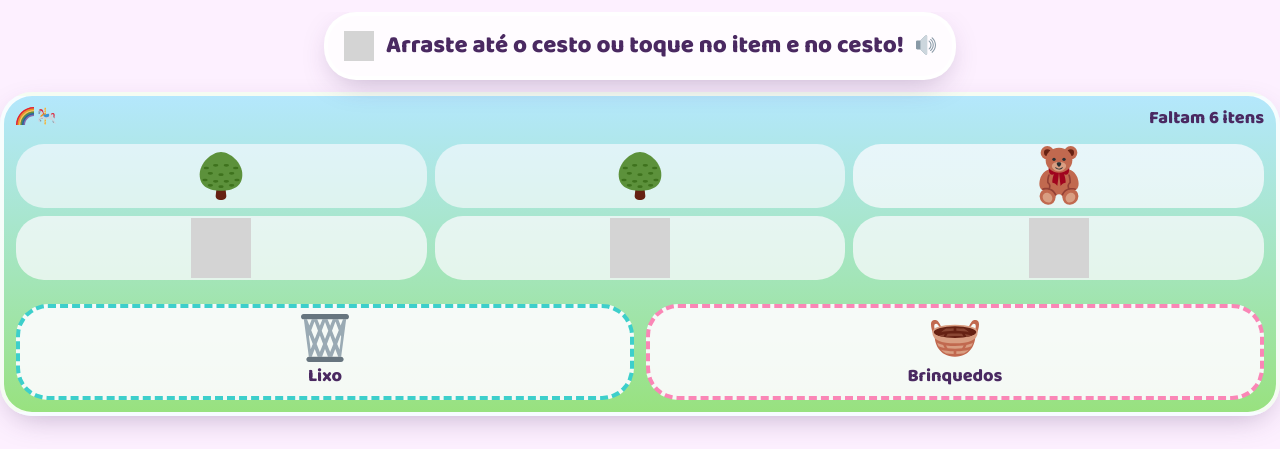
Test: parque acessível › mantém um item disponível quando o cesto escolhido está errado
Click the button named "Revelar item" at (221, 176), box [16,144,427,208]
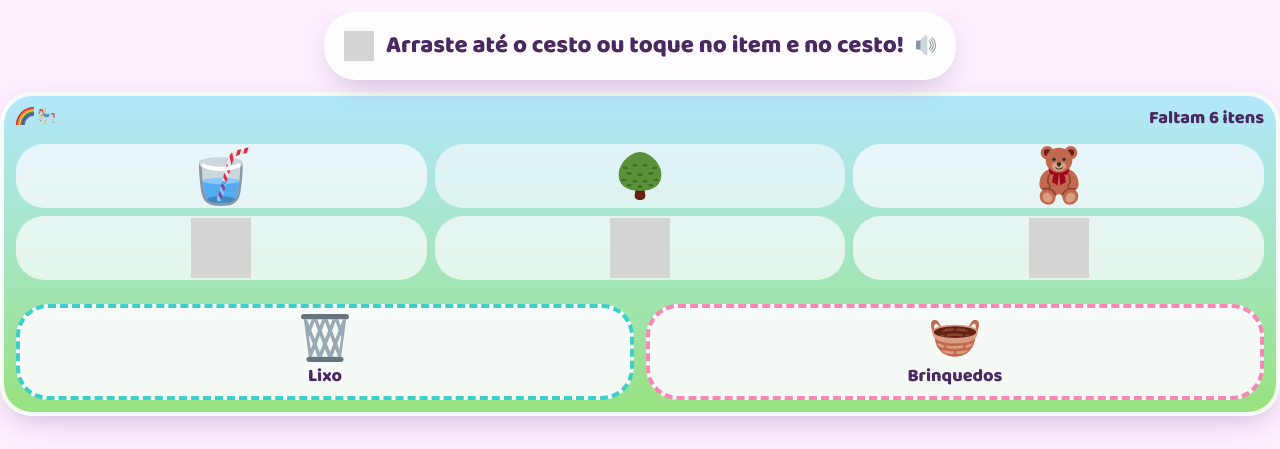
Click the button named "Revelar item" at (640, 176), box [435,144,845,208]
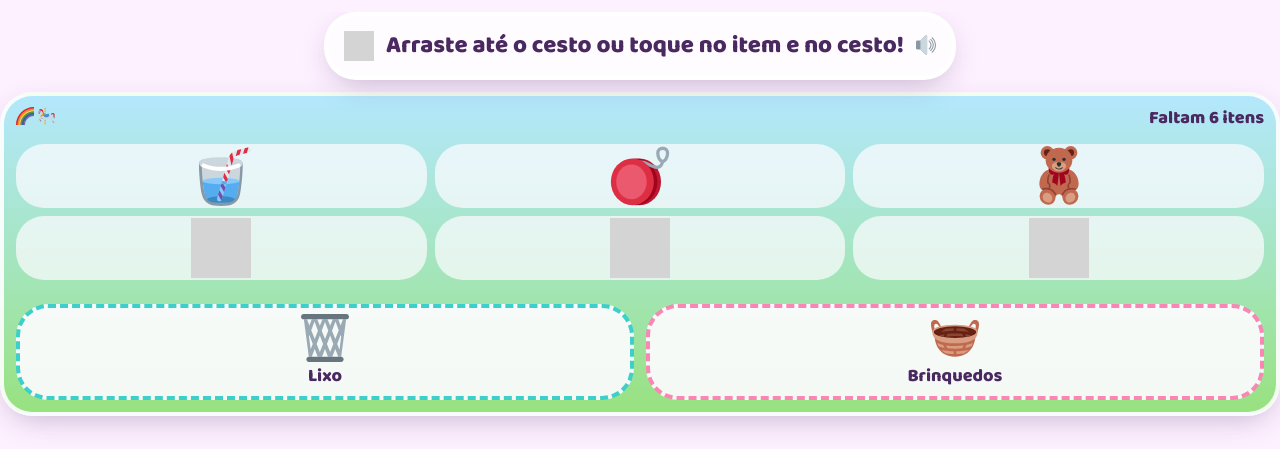
Press Enter in the button named "Ursinho", box [853,144,1264,208]
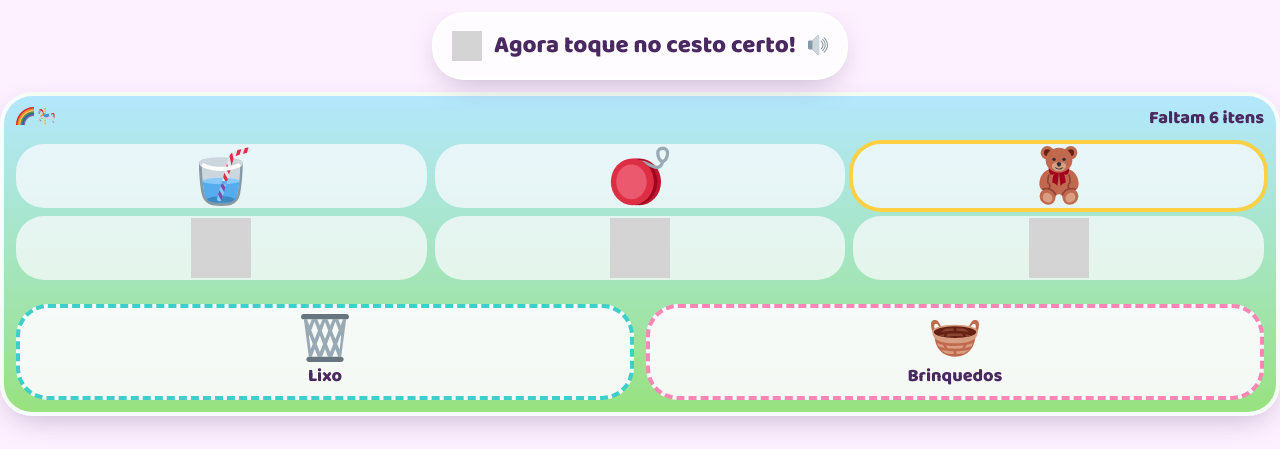
Click the button with aria-label "Lixeira" at (325, 352), box [16,304,634,400]
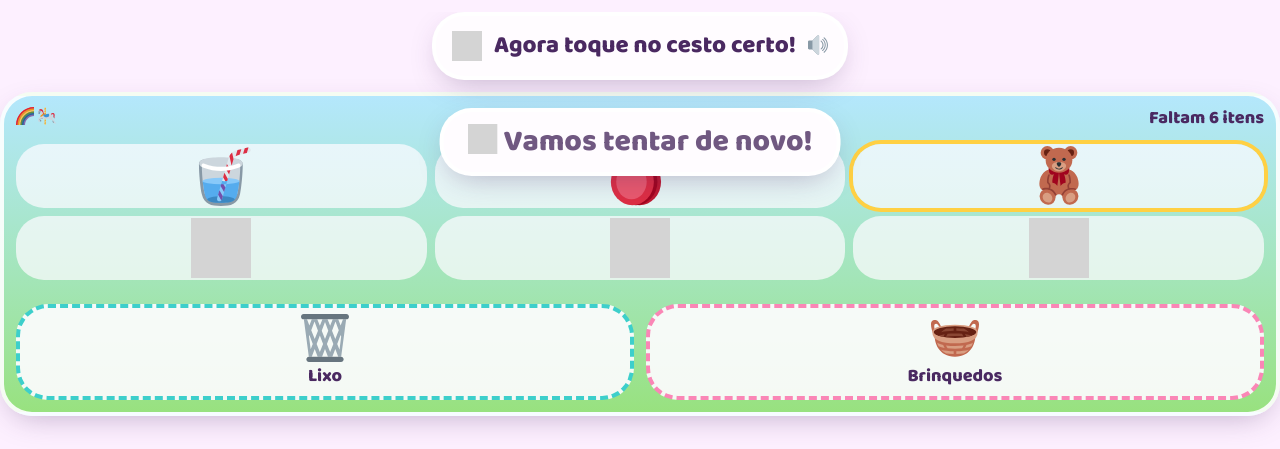
Check: the button named "Ursinho" is shown, box [853,144,1264,208]
Check: the message reads "Faltam 6 itens", box [1149,104,1264,132]
Click the button with aria-label "Cesta de brinquedos" at (955, 352), box [646,304,1264,400]
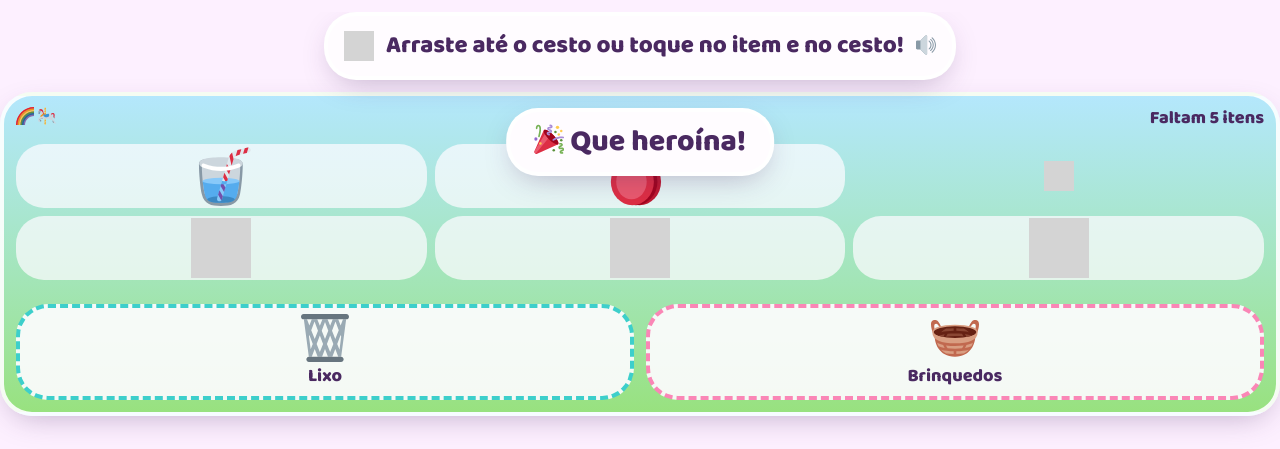
Check: the button "Ursinho" is gone
Check: the message reads "Faltam 5 itens", box [1150,104,1264,132]
